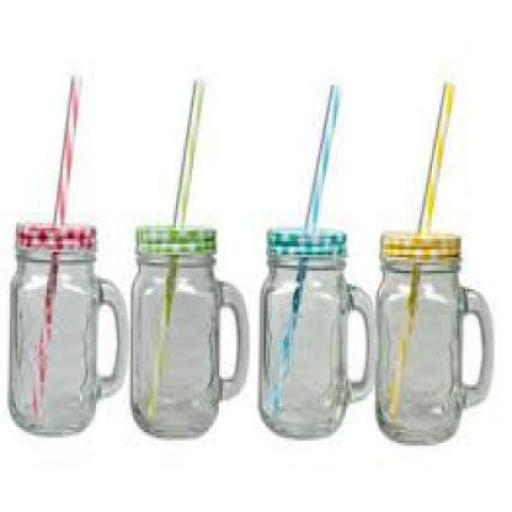glass: (371, 260, 493, 440), (128, 252, 246, 438), (10, 250, 127, 432), (260, 257, 373, 432)
metal: (264, 228, 344, 257), (133, 223, 213, 252), (12, 221, 94, 249), (377, 228, 460, 254)
